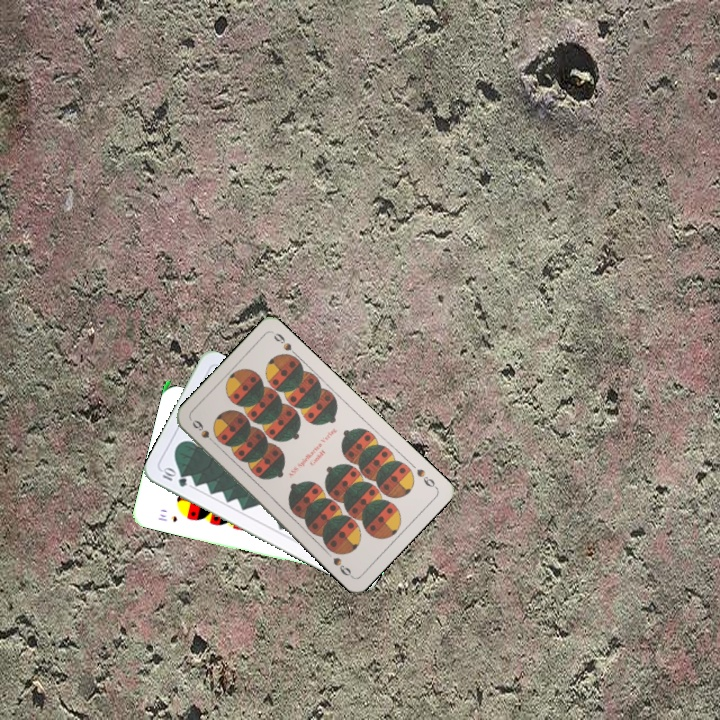G10: (158, 464, 190, 490)
S10: (154, 510, 180, 525)
S9: (188, 416, 220, 448), (412, 465, 439, 491)
